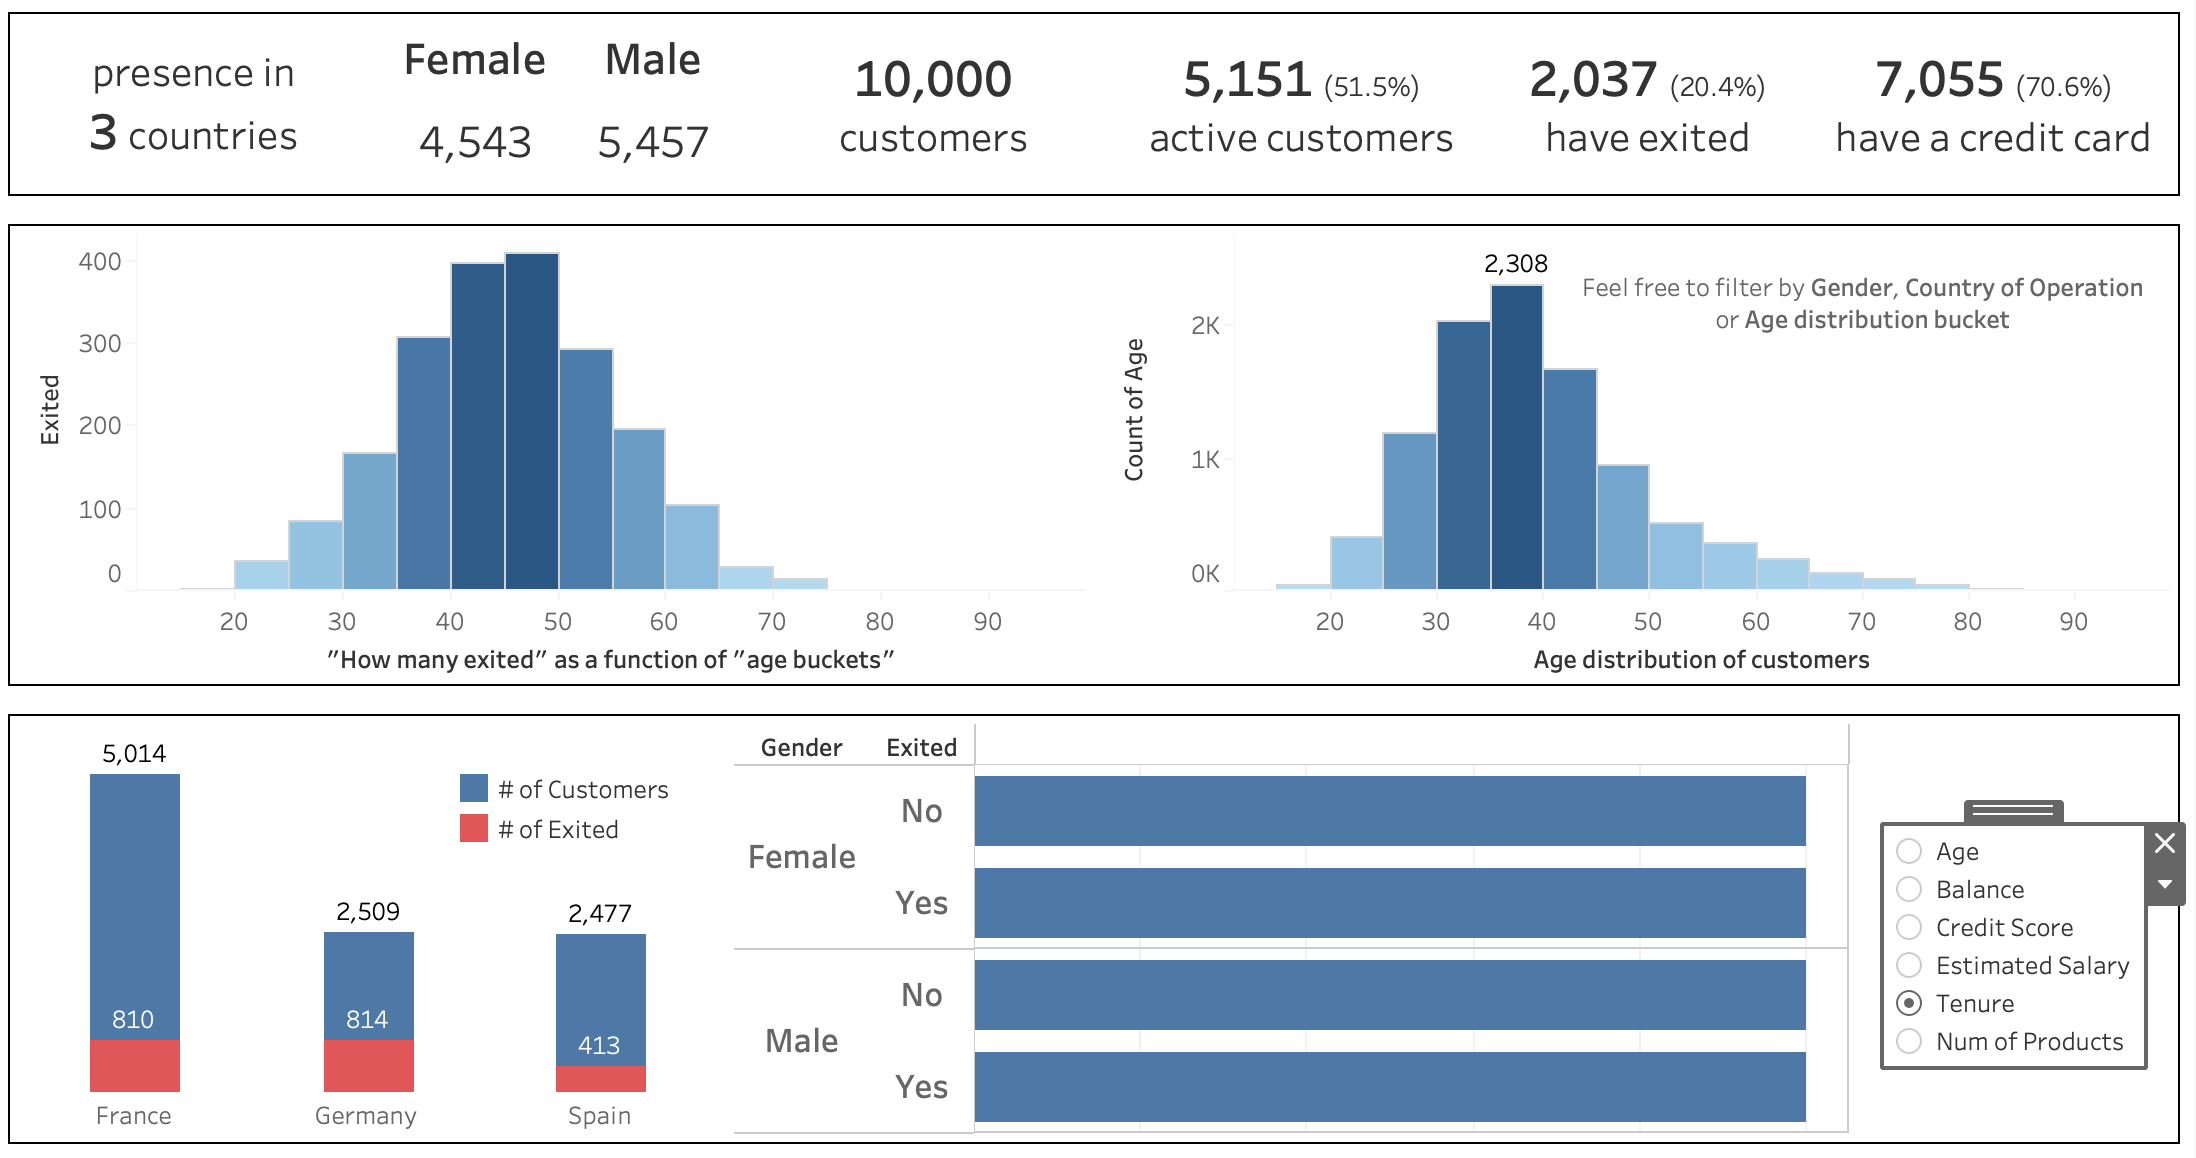

Layout of this report page (visuals, bound fields, positions):
{"tool":"tableau","page":{"name":"Dashboard 1","canvas":[1100,580],"ordinal":0},"visuals":[{"type":"worksheet","title":"no of countries","mark":"Automatic","box":[8,8,184,90]},{"type":"worksheet","title":"gender wise","mark":"Automatic","cols":["Gender"],"box":[192,8,186,90]},{"type":"worksheet","title":"no of customers","mark":"Automatic","box":[378,8,184,90]},{"type":"worksheet","title":"active customers","mark":"Automatic","box":[562,8,184,90]},{"type":"worksheet","title":"exited","mark":"Automatic","box":[746,8,162,90]},{"type":"worksheet","title":"credit card","mark":"Automatic","box":[908,8,184,90]},{"type":"worksheet","title":"exited by age","mark":"Automatic","rows":["Exited"],"cols":["Age (bin)"],"box":[8,114,542,229]},{"type":"worksheet","title":"age bins","mark":"Automatic","rows":["Age"],"cols":["Age (bin)"],"box":[550,114,542,229]},{"type":"text","box":[787,128,295,49]},{"type":"worksheet","title":"total vs exited","mark":"Bar","rows":["churn modelling.csv_889AB279A08C433EA94E691670468E9B","Exited"],"cols":["Geography"],"box":[8,359,358,213]},{"type":"worksheet","title":"parameter","mark":"Automatic","rows":["Gender","Exited"],"cols":["Calculation_752664139939753995"],"box":[366,359,566,213]},{"type":"legend","title":"total vs exited","param":"[federated.0pon31v1hlgzs21f942ho0wm0bd4].[:Measure Names]","box":[230,385,140,41]},{"type":"parameter","param":"[Parameters].[Parameter 1]","box":[945,414,130,120]}]}

Visuals, with their boxes in screenshot pixels (x1, y1, x2, y2), scaled from the page's 1100x580 canvas onto the 2196x1158 screenshot:
"no of countries" worksheet: (16,16,383,196)
"gender wise" worksheet: (383,16,755,196)
"no of customers" worksheet: (755,16,1122,196)
"active customers" worksheet: (1122,16,1489,196)
"exited" worksheet: (1489,16,1813,196)
"credit card" worksheet: (1813,16,2180,196)
"exited by age" worksheet: (16,228,1098,685)
"age bins" worksheet: (1098,228,2180,685)
text: (1571,256,2160,353)
"total vs exited" worksheet (Bar marks): (16,717,731,1142)
"parameter" worksheet: (731,717,1861,1142)
"total vs exited" legend: (459,769,739,851)
parameter: (1887,827,2146,1066)
